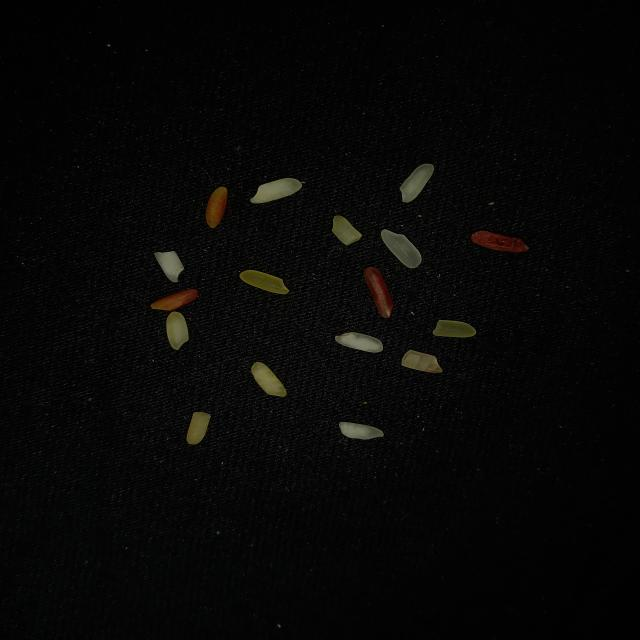Broken: (364, 267, 393, 318), (471, 230, 529, 252), (240, 270, 290, 294), (151, 289, 198, 311), (154, 251, 184, 282), (402, 350, 442, 373), (332, 215, 361, 245), (206, 187, 227, 228), (433, 319, 475, 338), (339, 422, 383, 440), (187, 412, 210, 445)
Full: (381, 229, 422, 268), (250, 178, 302, 204), (400, 164, 434, 202), (251, 362, 287, 397), (335, 332, 383, 353), (166, 312, 189, 350)
